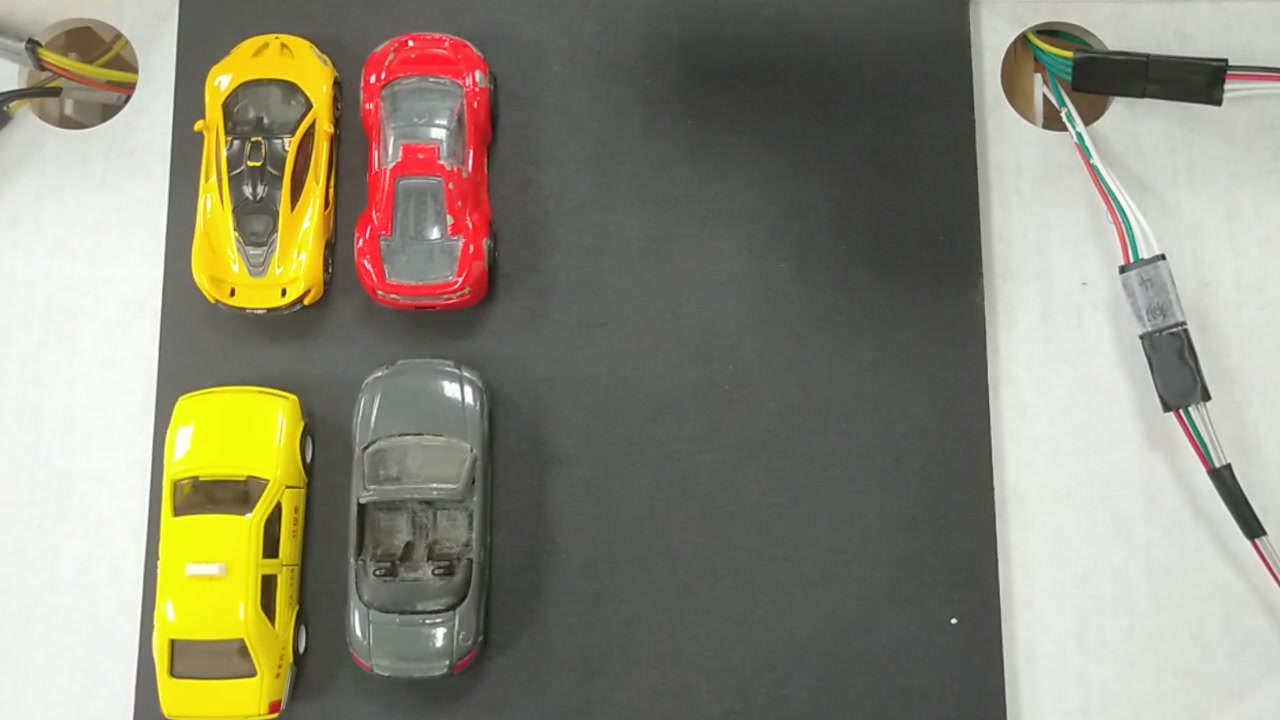car: (149, 387, 303, 716), (339, 352, 489, 683), (193, 36, 335, 313), (361, 32, 485, 314)
